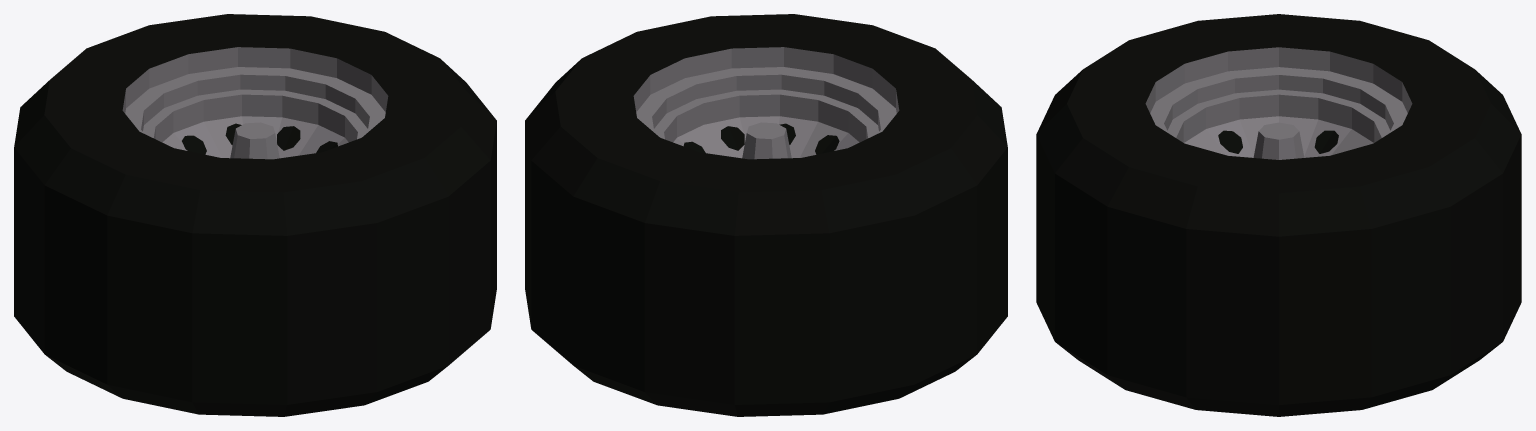
Rendered from ds_spare_wheel.glb.
3 views of the same model, side by side, from view 1: azimuth 30°, elevation 25°; view 2: azimuth 150°, elevation 25°; view 3: azimuth 270°, elevation 25° (orthographic).
Visible parts, largest first — view 1: hilux_body001; view 2: hilux_body001; view 3: hilux_body001.
Part boxes in pixels (<box>): hilux_body001: <box>14,14,496,416</box>; hilux_body001: <box>525,14,1007,416</box>; hilux_body001: <box>1036,14,1521,416</box>.
Size of the model in its own units: 0.8012 by 0.4037 by 0.8012.
Materials: 1 (1 with a texture image).
